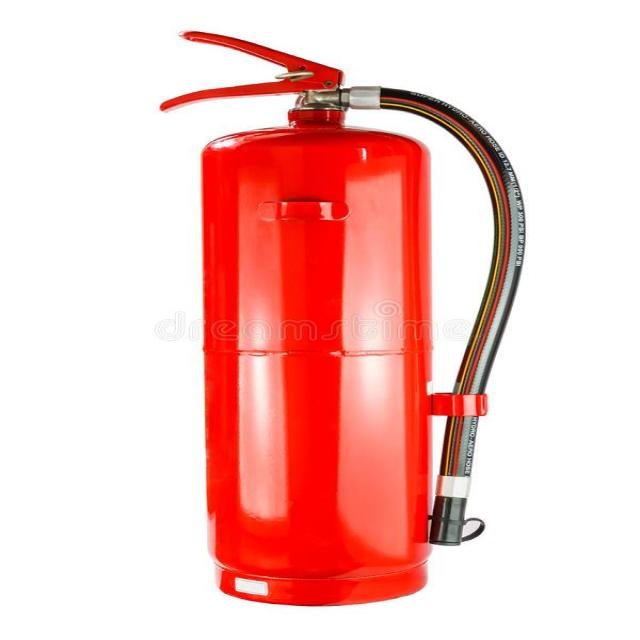fire_extinguisher: (152, 26, 534, 608)
